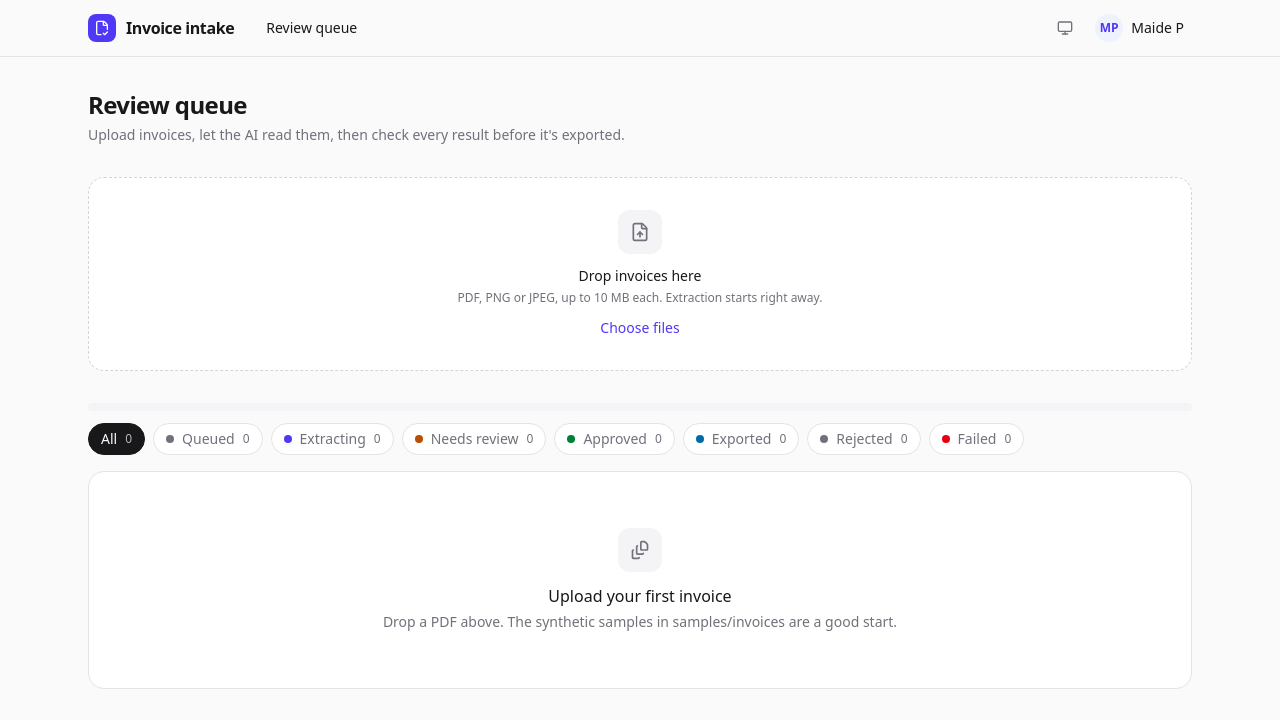
signing in › signs out from the user menu
The width and height of the screenshot is (1280, 720).
Click the button with aria-label "Signed in as Maide P" at point(1140, 28), box [1087,10,1192,46]
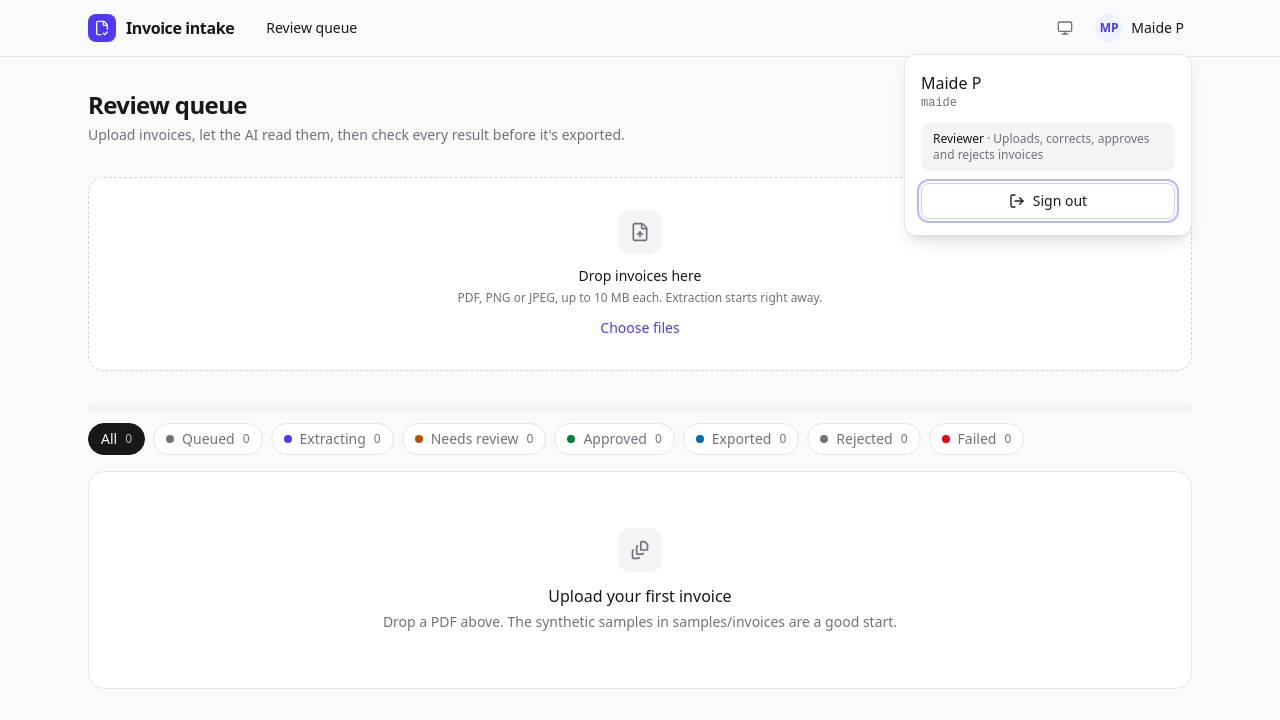
Click the button "Sign out" at point(1048, 201), box [921,183,1175,219]
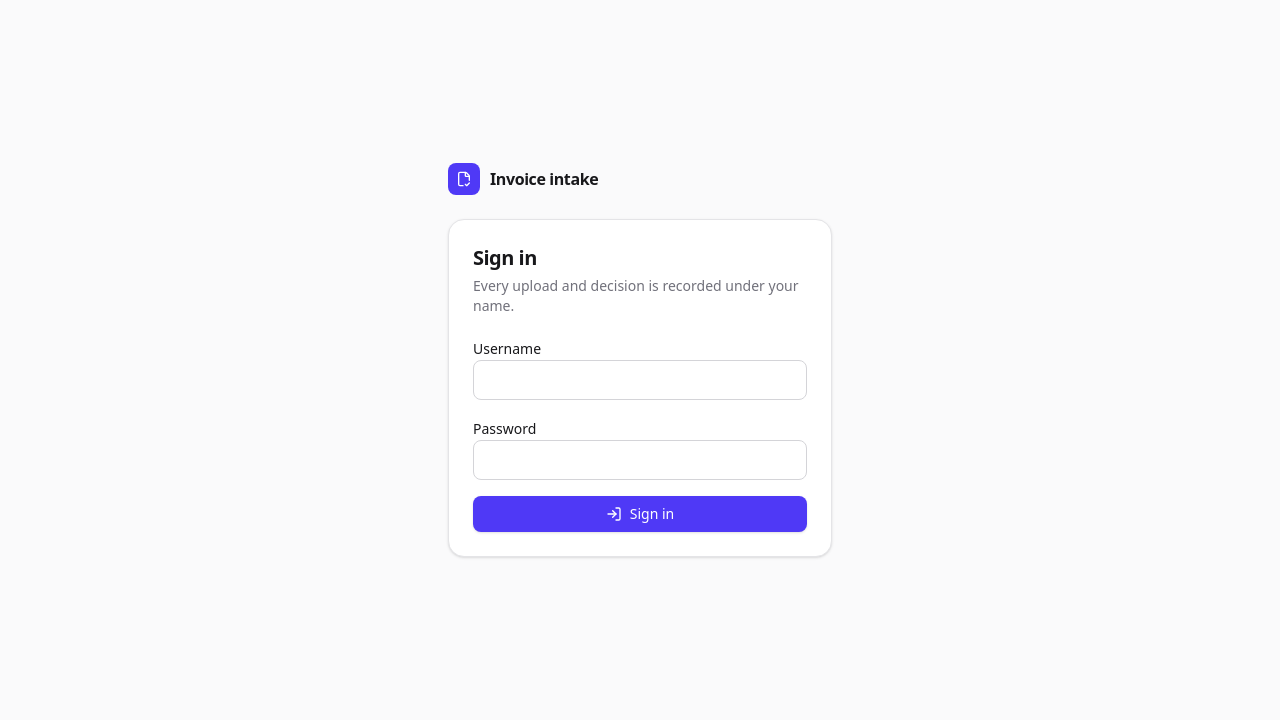
Check: the heading "Sign in" is shown, box [473,244,537,271]
